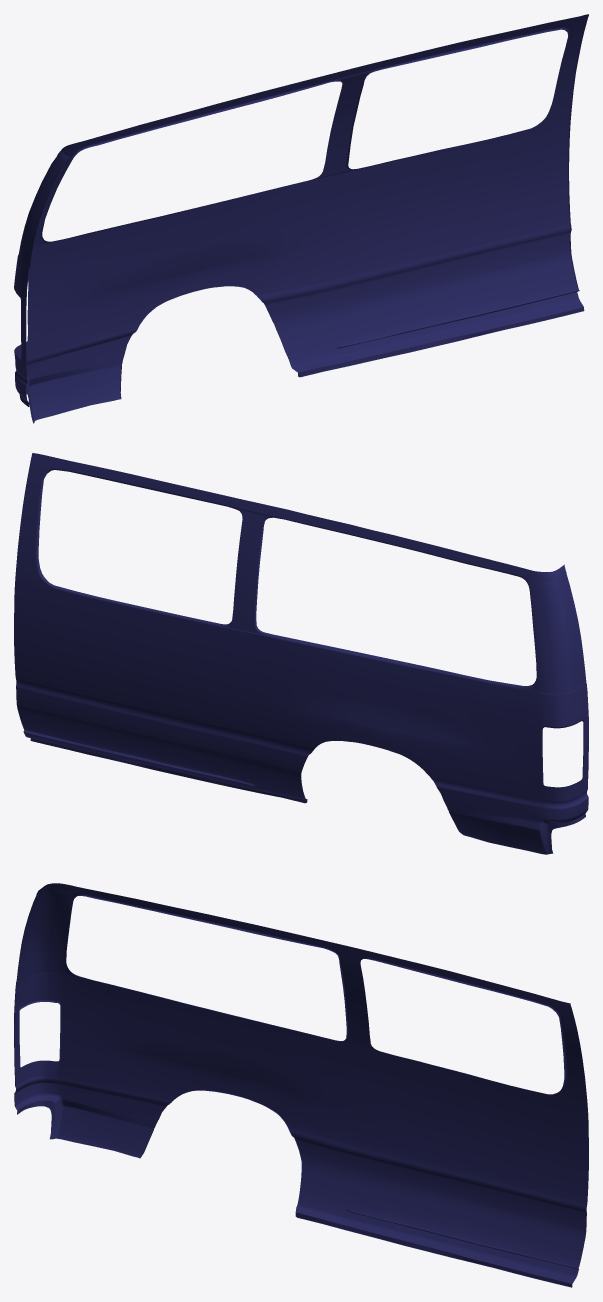
3 renders of one model, top to bottom at view 1: azimuth 30°, elevation 25°; view 2: azimuth 150°, elevation 25°; view 3: azimuth 330°, elevation 25°, orthographic. The views are drawn at different scales.
Visible parts, largest first — view 1: P615_5A_38AA_L_1_DaS_P615_5A_38AA_L, P615_5A_38AA_L_1_DaS_P615_5A_38AA_L_E; view 2: P615_5A_38AA_L_1_DaS_P615_5A_38AA_L, P615_5A_38AA_L_1_DaS_P615_5A_38AA_L_E; view 3: P615_5A_38AA_L_1_DaS_P615_5A_38AA_L, P615_5A_38AA_L_1_DaS_P615_5A_38AA_L_E.
Part boxes in pixels (left/top/right/bottom): P615_5A_38AA_L_1_DaS_P615_5A_38AA_L: left=14, top=14, right=588, bottom=421; P615_5A_38AA_L_1_DaS_P615_5A_38AA_L_E: left=17, top=14, right=588, bottom=423; P615_5A_38AA_L_1_DaS_P615_5A_38AA_L: left=14, top=453, right=588, bottom=854; P615_5A_38AA_L_1_DaS_P615_5A_38AA_L_E: left=14, top=453, right=587, bottom=854; P615_5A_38AA_L_1_DaS_P615_5A_38AA_L: left=14, top=883, right=588, bottom=1283; P615_5A_38AA_L_1_DaS_P615_5A_38AA_L_E: left=14, top=891, right=588, bottom=1287.
Size of the model in its own units: 333 by 168 by 39.87.
